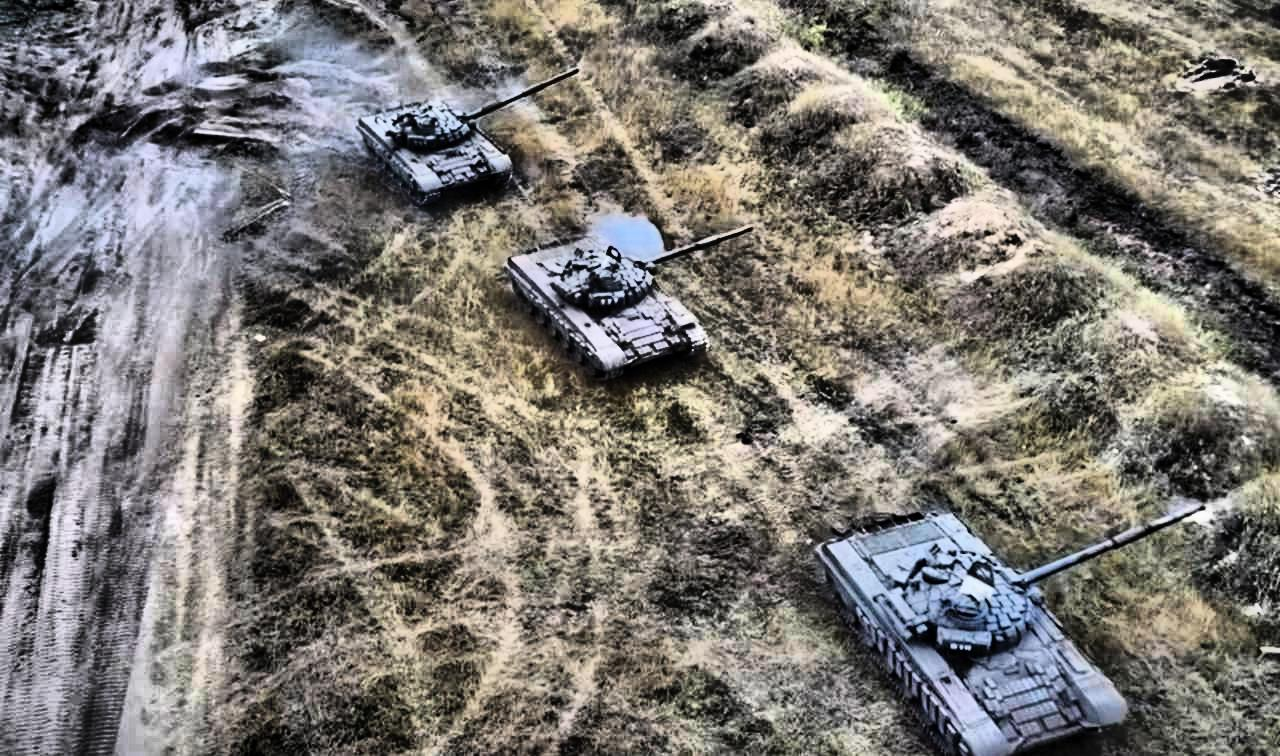military-vehicle: (816, 501, 1206, 756), (506, 224, 754, 381), (358, 66, 580, 205)
